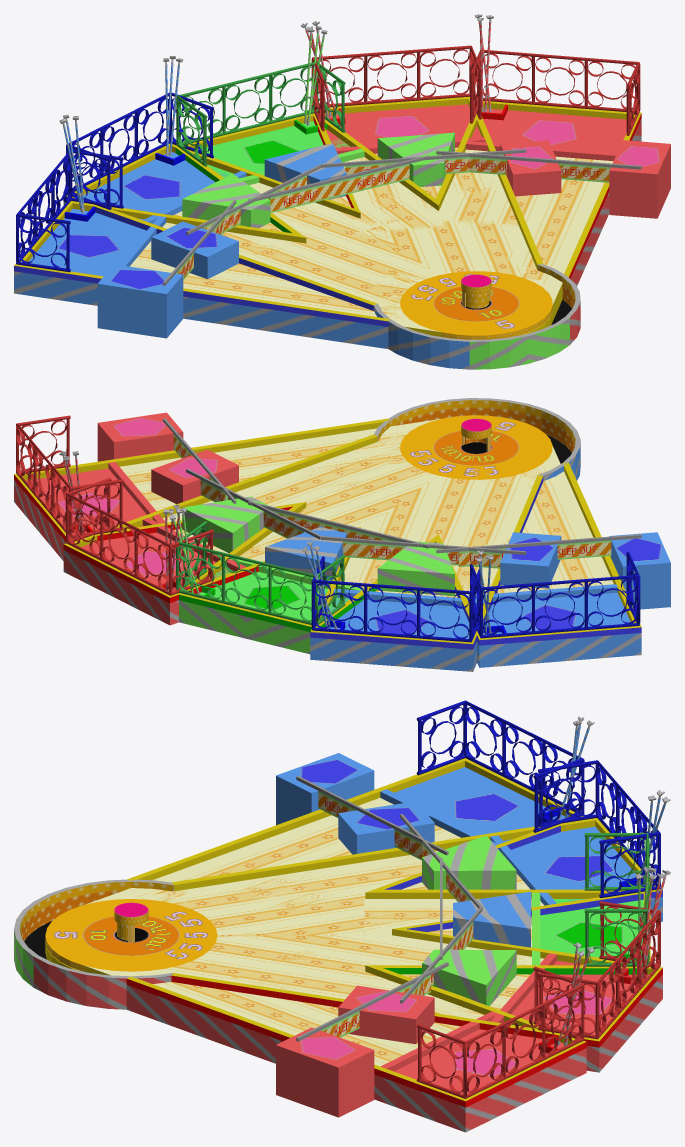
Rendered from Dual_Curling.fbx.
The picture shows the model from 3 angles, top to bottom: view 1: azimuth 30°, elevation 25°; view 2: azimuth 150°, elevation 25°; view 3: azimuth 270°, elevation 25°; orthographic projection. The views are drawn at different scales.
Visible parts, largest first — view 1: (R)セット, セット, (R)BOX, Box, house_out, (R)KEEPOUT_g, house_out_bonus, (R)KEEPOUT_r, KEEPOUT_r, KEEPOUT_b, house_middle, (R)5pts_out (+3 smaller); view 2: (R)セット, セット, (R)BOX, Box, house_out, KEEPOUT_b, (R)KEEPOUT_b, KEEPOUT_r, (R)5pts_out, (R)KEEPOUT_g, house_out_bonus, house_middle (+5 smaller); view 3: (R)セット, セット, (R)BOX, Box, house_out, house_out_bonus, (R)KEEPOUT_b, (R)5pts_out, (R)KEEPOUT_r, KEEPOUT_r, house_bonus, KEEPOUT_b (+4 smaller).
Boxes of the visible parts, x1,y1,x2,y2 form: (R)セット: [14, 14, 641, 369]; セット: [63, 21, 579, 352]; (R)BOX: [97, 132, 670, 338]; Box: [151, 140, 561, 279]; house_out: [400, 271, 552, 339]; (R)KEEPOUT_g: [248, 155, 428, 212]; house_out_bonus: [400, 271, 552, 335]; (R)KEEPOUT_r: [436, 150, 641, 182]; KEEPOUT_r: [321, 149, 526, 174]; KEEPOUT_b: [186, 164, 321, 234]; house_middle: [434, 287, 518, 321]; (R)5pts_out: [403, 273, 527, 333]; (R)セット: [14, 398, 641, 667]; セット: [63, 398, 579, 671]; (R)BOX: [97, 412, 670, 609]; Box: [151, 449, 561, 588]; house_out: [400, 415, 552, 479]; KEEPOUT_b: [321, 536, 526, 568]; (R)KEEPOUT_b: [436, 534, 641, 566]; KEEPOUT_r: [186, 469, 320, 539]; (R)5pts_out: [402, 417, 527, 477]; (R)KEEPOUT_g: [248, 501, 429, 548]; house_out_bonus: [400, 415, 552, 479]; house_middle: [434, 431, 518, 465]; (R)セット: [14, 700, 656, 1132]; セット: [16, 760, 670, 1072]; (R)BOX: [276, 753, 516, 1117]; Box: [338, 801, 531, 1044]; house_out: [45, 899, 217, 971]; house_out_bonus: [45, 899, 215, 971]; (R)KEEPOUT_b: [296, 776, 448, 860]; (R)5pts_out: [51, 905, 210, 965]; (R)KEEPOUT_r: [296, 962, 448, 1041]; KEEPOUT_r: [400, 907, 482, 1003]; house_bonus: [114, 902, 148, 942]; KEEPOUT_b: [400, 814, 482, 908].
Size of the model in its own units: 5923 by 1021 by 4771.
